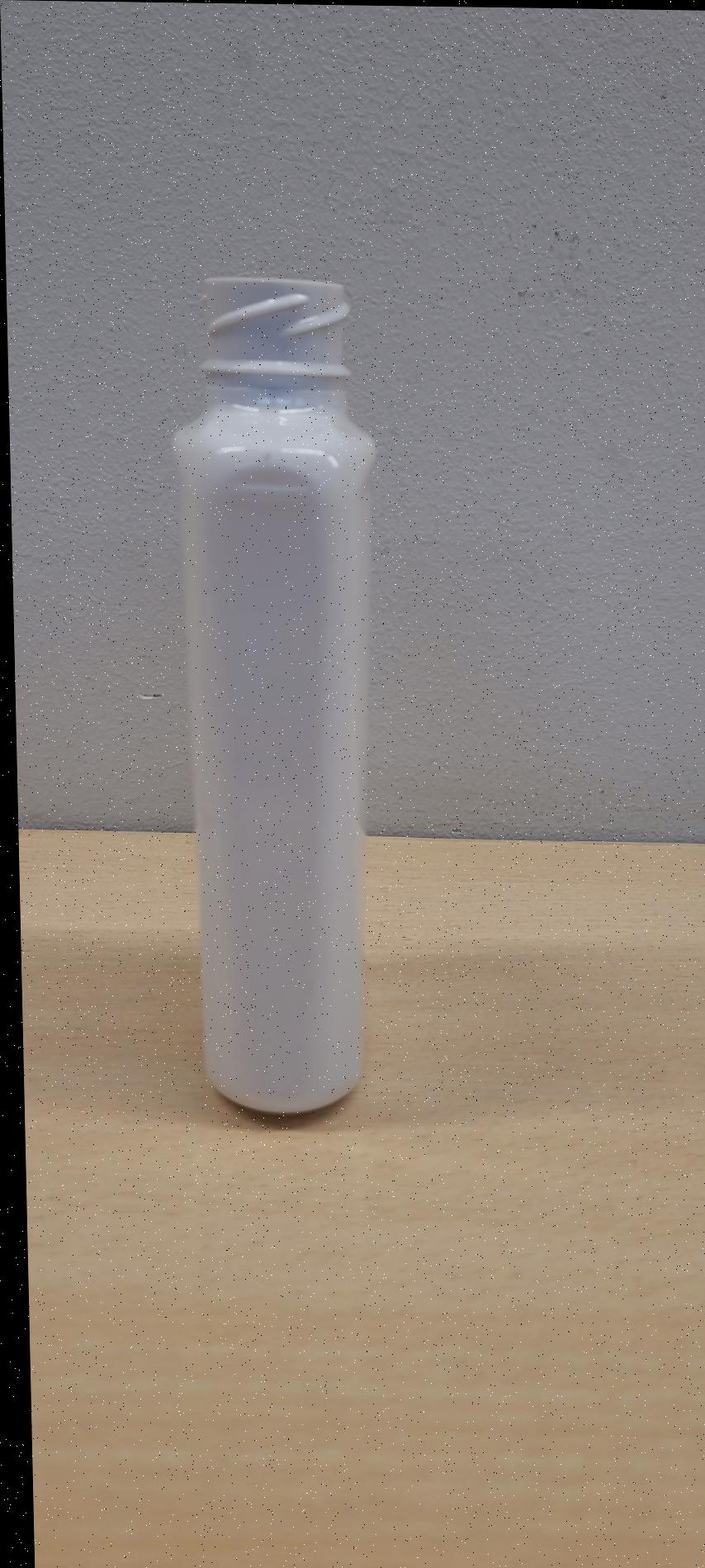bottle: (173, 277, 375, 1114)
